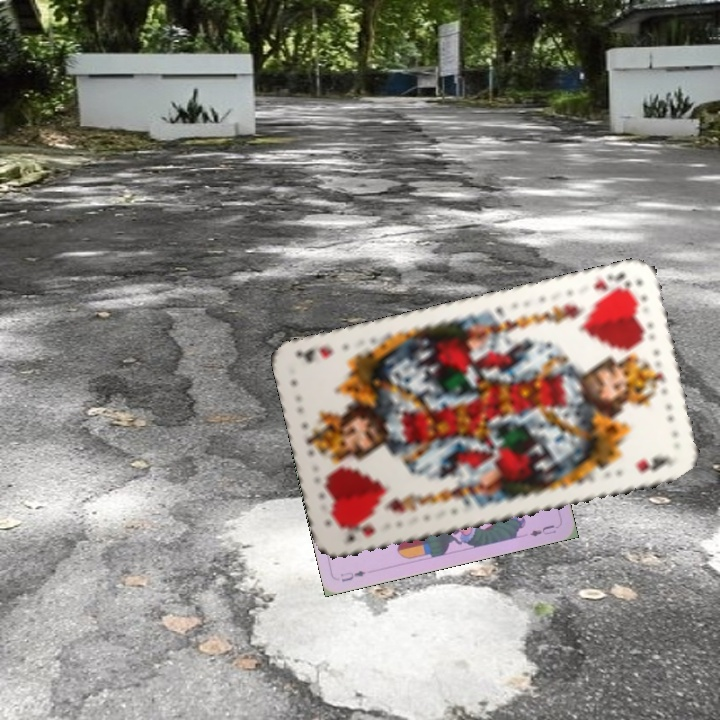EU: (337, 567, 368, 585)
HK: (589, 268, 634, 301), (336, 520, 378, 545)
